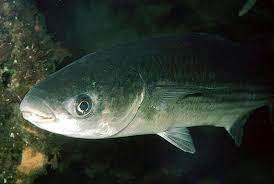Mullet: (22, 29, 263, 157)
